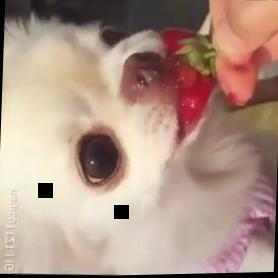nasal_discharge: (125, 63, 162, 91)
